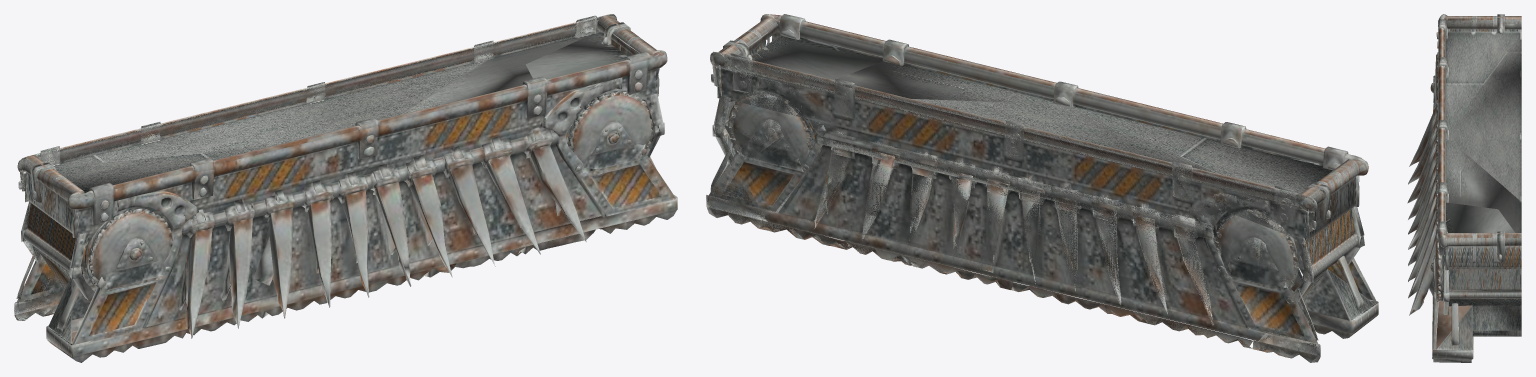
Rendered from train-armor-end.glb.
3 renders of one model, left to right at view 1: azimuth 30°, elevation 25°; view 2: azimuth 150°, elevation 25°; view 3: azimuth 270°, elevation 25°, orthographic. The views are drawn at different scales.
Visible parts, largest first — view 1: train-armor-end; view 2: train-armor-end; view 3: train-armor-end.
Boxes of the visible parts, box(x1,y1,x2,y2) form: train-armor-end: box(14, 14, 677, 362); train-armor-end: box(706, 14, 1378, 362); train-armor-end: box(1407, 14, 1521, 362).
Size of the model in its own units: 2.6 by 0.6855 by 0.55.
1 material, 1 textured.
